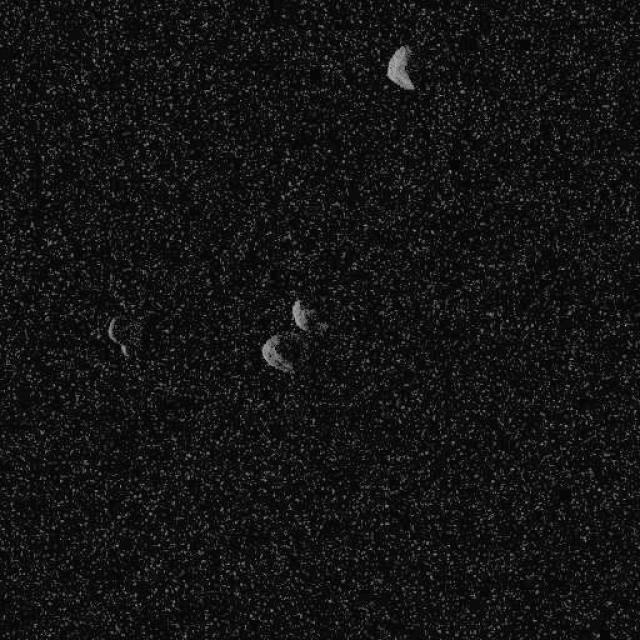D2: (385, 44, 416, 91), (260, 332, 295, 373), (105, 315, 130, 357), (290, 299, 311, 331)
